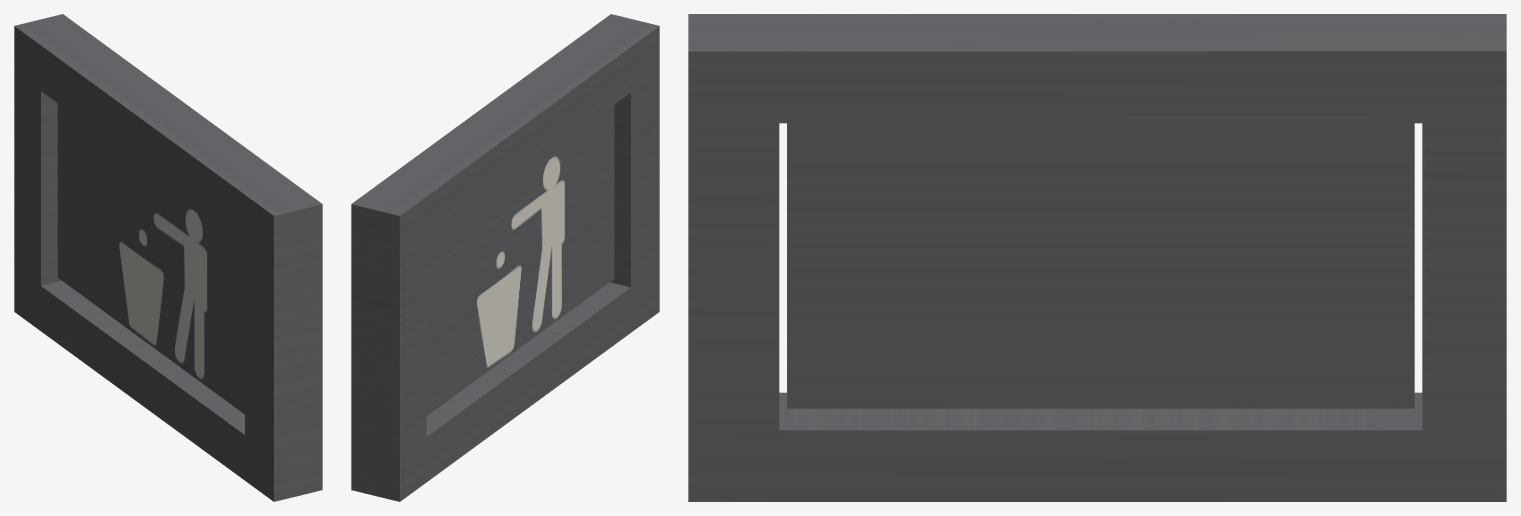
Rendered from ass_24_bins(cell).fbx.
The picture shows the model from 3 angles, left to right: view 1: azimuth 30°, elevation 25°; view 2: azimuth 150°, elevation 25°; view 3: azimuth 270°, elevation 25°; orthographic projection. The views are drawn at different scales.
Parts seen in each view (by area): view 1: frame1; view 2: frame1; view 3: frame1.
Part boxes in pixels (x1,y1,x2,y2): frame1: (14,14,322,501); frame1: (351,14,659,501); frame1: (688,14,1506,501).
Size of the model in its own units: 6.54 by 36.72 by 60.45.
2 materials, 2 textured.
